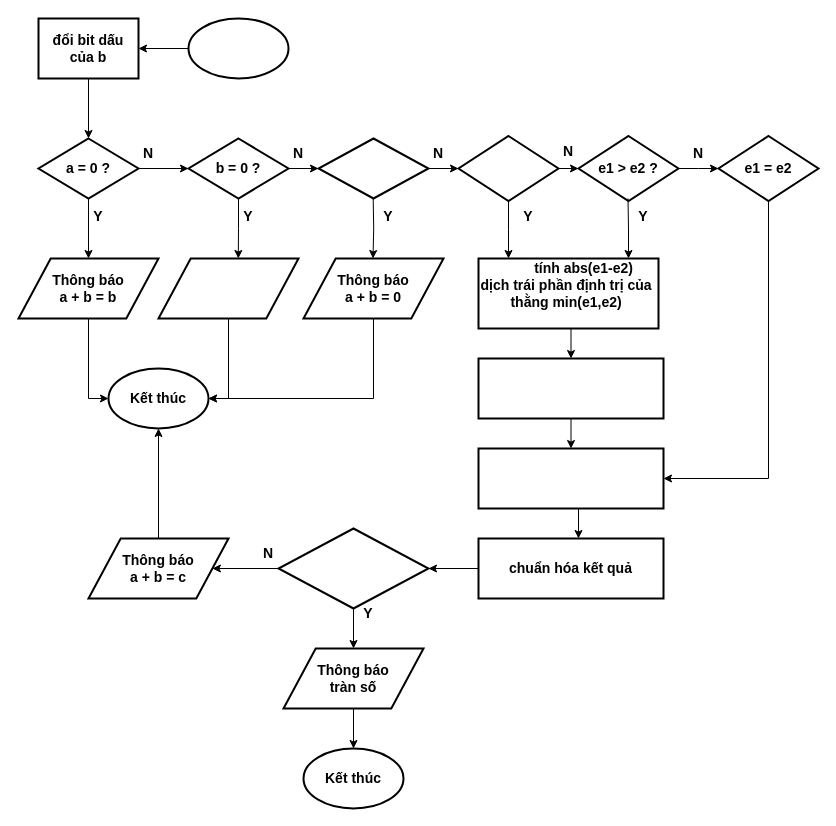
The diagram is 836 pixels wide and 826 high, and some of its shapes have lost their labels. The centre of each missing label's shape, as x and y in pixels:
a = -b ?: point 373,168
Bắt đầu: point 238,48
cộng phần định trị: point 570,478
e1 < e2 ?: point 508,168
e=e1=e2=max(e1,e2): point 570,388
Thông báo a + b = a: point 228,288
Tràn số phần mũ ?: point 353,568
